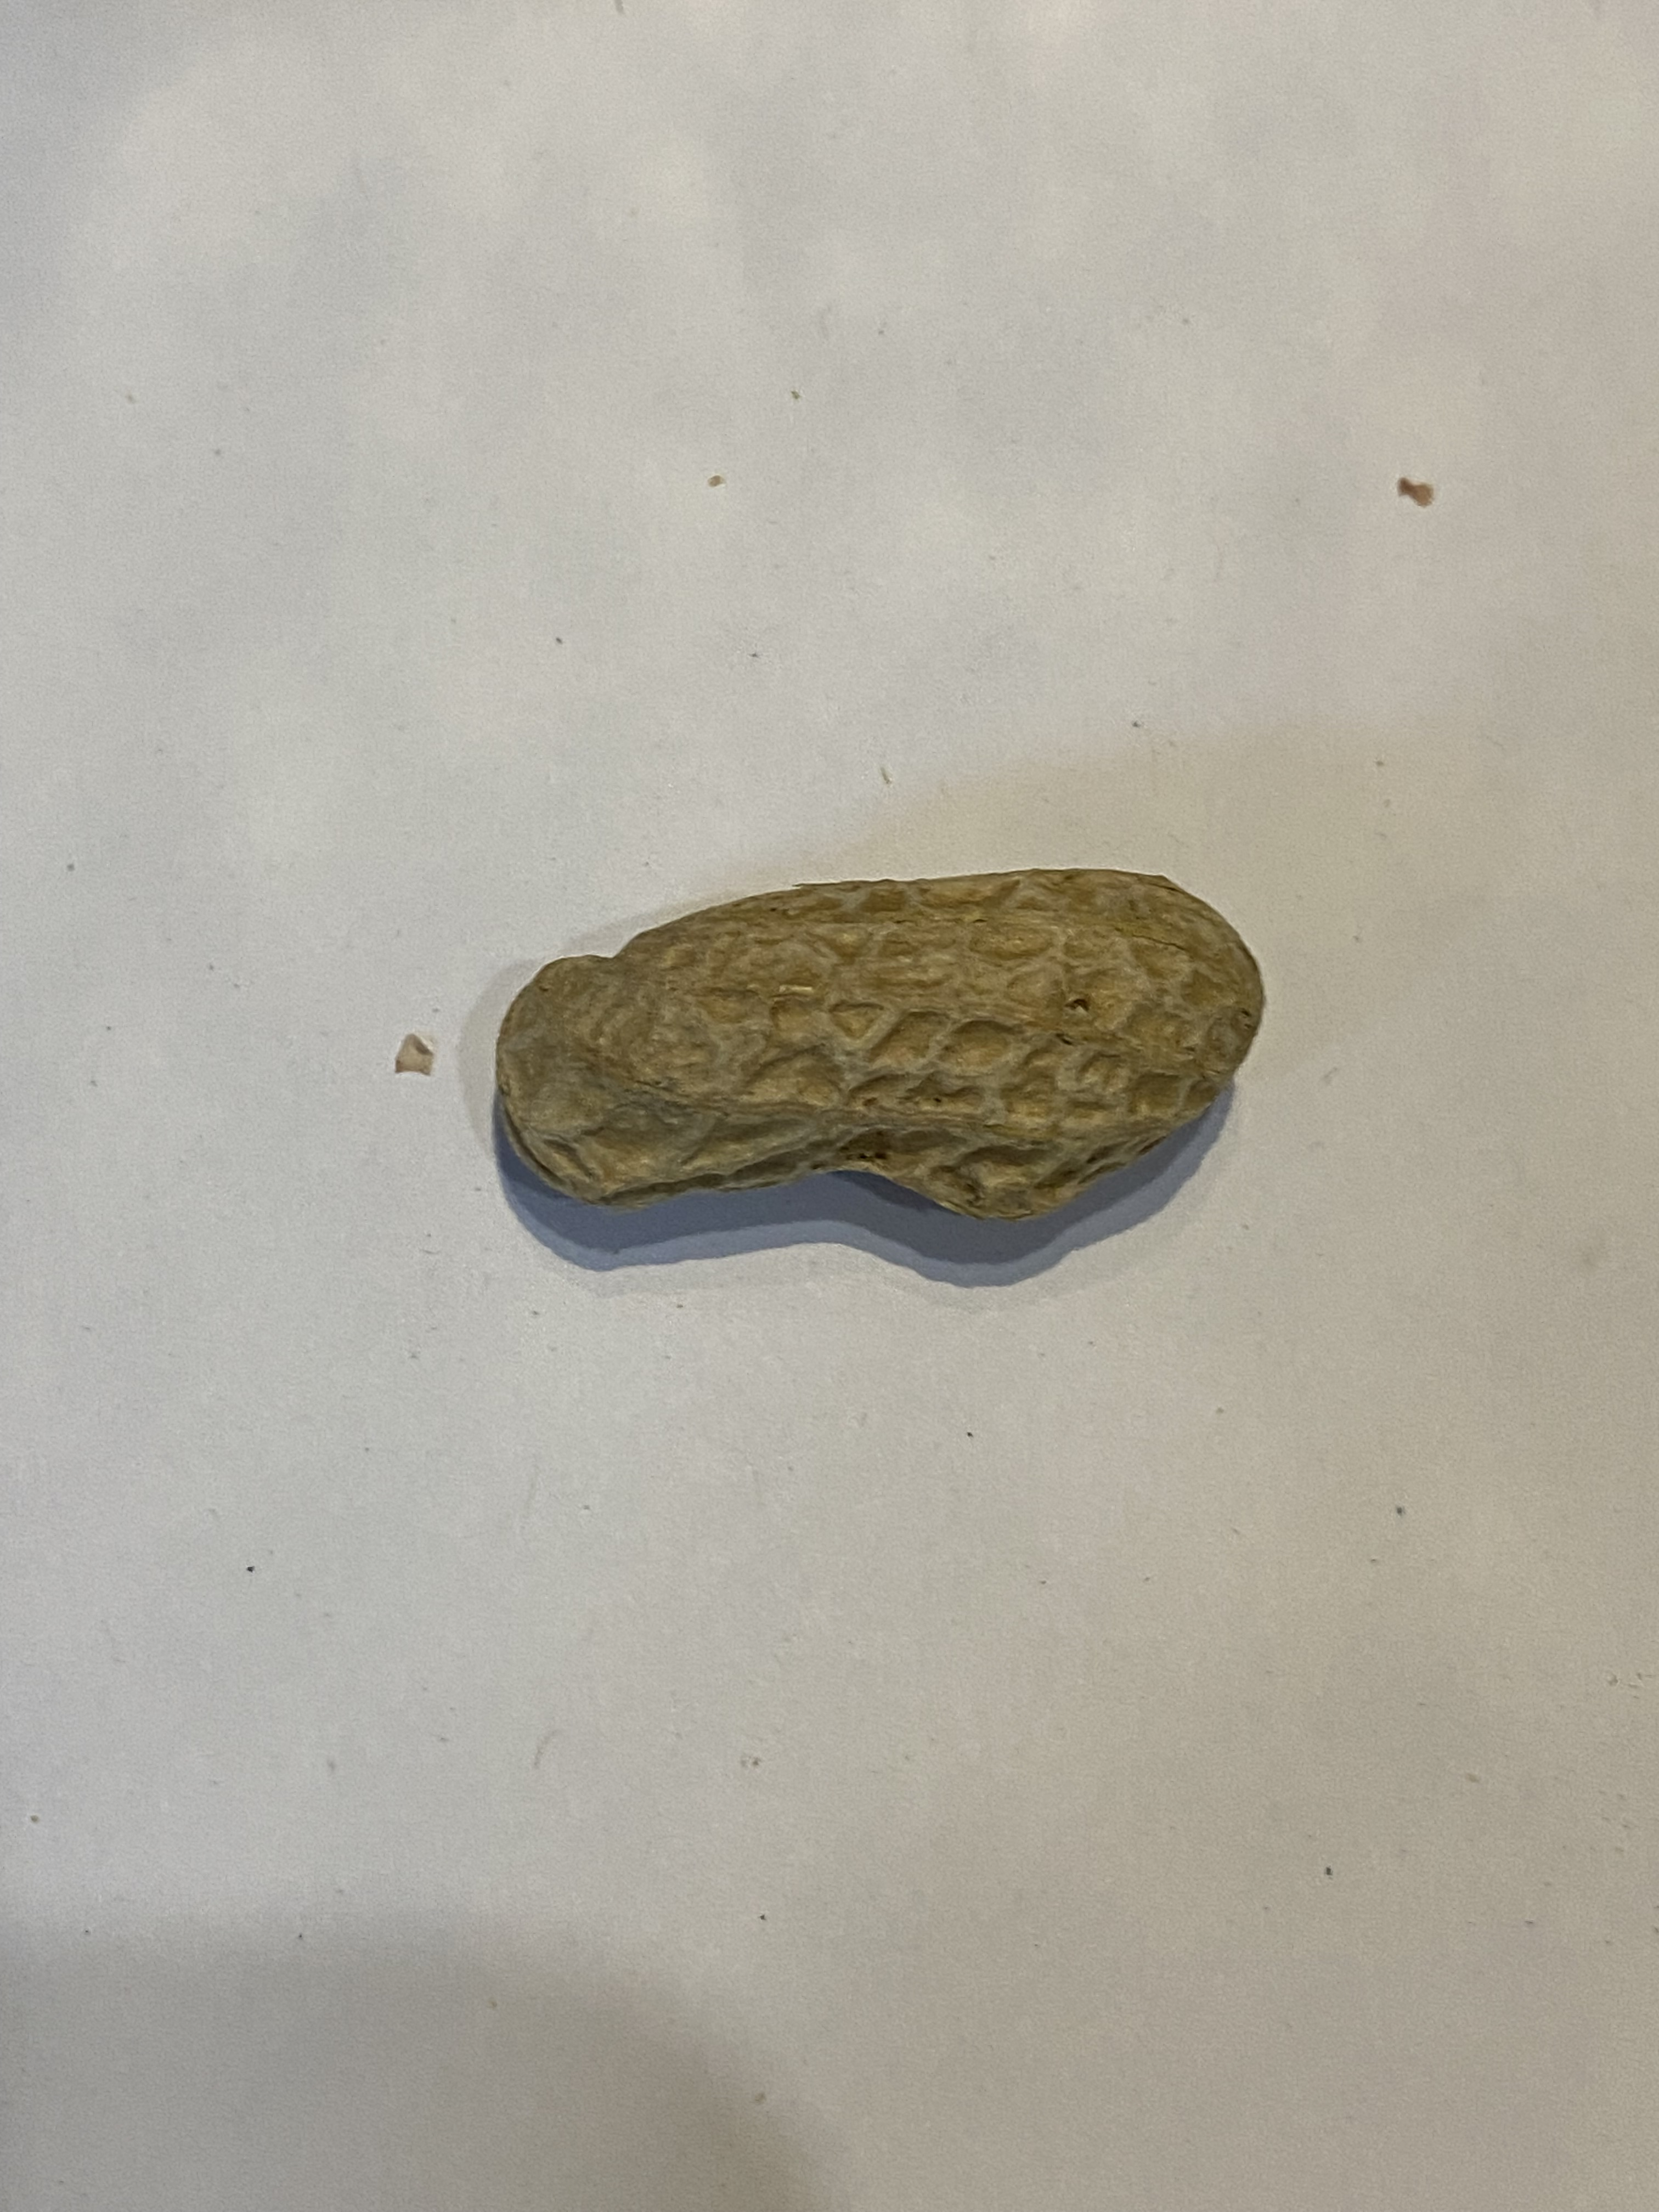kacang2: (467, 833, 1276, 1242)
